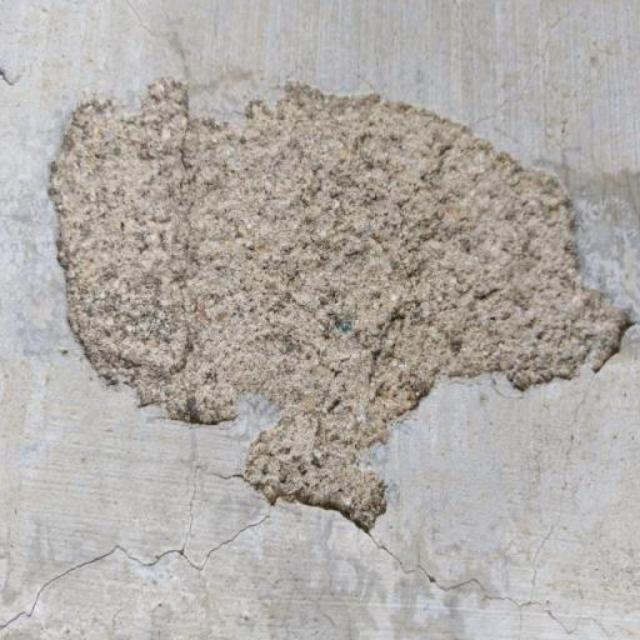D10: (50, 78, 633, 533)
